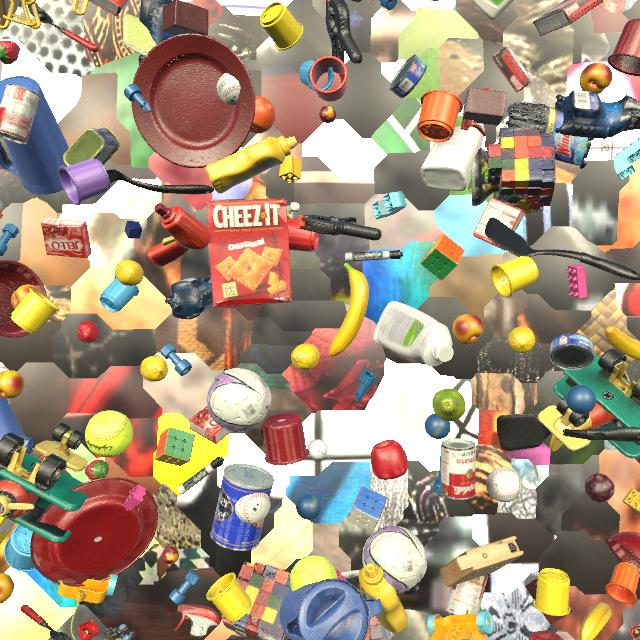ycb_002_master_chef_can: (210, 464, 274, 551)
ycb_003_cracker_box: (207, 198, 292, 307)
ycb_004_sugar_box: (0, 516, 15, 544)
ycb_005_tomato_soup_can: (0, 84, 40, 145), (441, 438, 476, 500), (445, 575, 489, 615)
ycb_006_mustard_bottle: (205, 136, 298, 194), (358, 563, 408, 634)
ycb_007_tuna_fish_can: (389, 55, 427, 98), (550, 333, 594, 370)
ycb_008_pudding_box: (533, 0, 603, 36), (492, 46, 531, 93), (226, 635, 252, 640)
ycb_009_gelatin_box: (473, 197, 525, 250), (41, 218, 92, 258), (189, 406, 230, 444), (88, 0, 128, 17)
ycb_010_potted_meat_can: (63, 127, 120, 166)
ycb_011_banana: (328, 262, 369, 357), (605, 326, 640, 360), (580, 602, 611, 640)
ycb_012_strawberry: (77, 320, 99, 343), (85, 459, 109, 480), (0, 40, 20, 64), (351, 0, 362, 2)
ycb_013_apple: (371, 440, 408, 480), (528, 631, 563, 640)
ycb_014_lemon: (291, 344, 320, 370), (115, 260, 144, 286), (508, 326, 535, 353), (140, 356, 168, 382), (639, 441, 640, 442)
ycb_015_peach: (579, 63, 613, 94), (452, 314, 484, 345), (11, 284, 43, 309), (0, 370, 25, 399), (0, 573, 14, 604)
ycb_016_pear: (432, 389, 466, 421)
ycb_017_orange: (251, 96, 275, 133)
ycb_018_plum: (585, 473, 615, 503), (432, 0, 439, 1)
